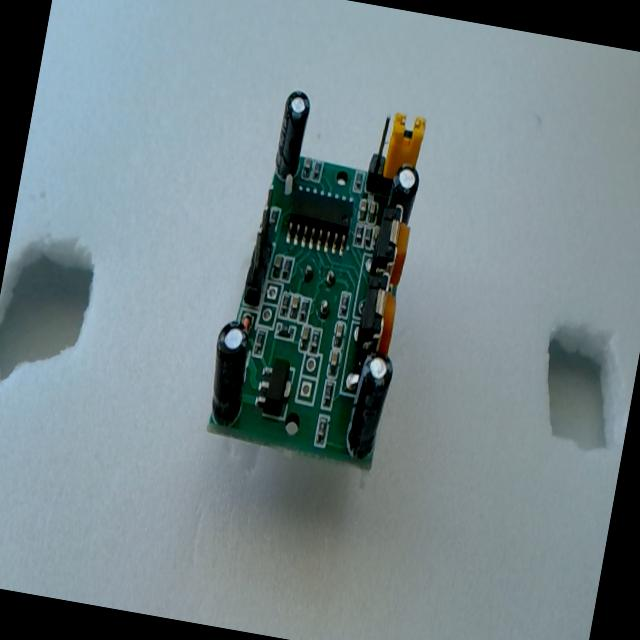Electrolytic capacitor: (342, 349, 396, 462), (202, 320, 255, 430), (271, 86, 313, 186), (383, 161, 421, 226)
IC: (284, 188, 355, 254)
pinheader: (237, 94, 307, 312), (241, 202, 280, 306)
